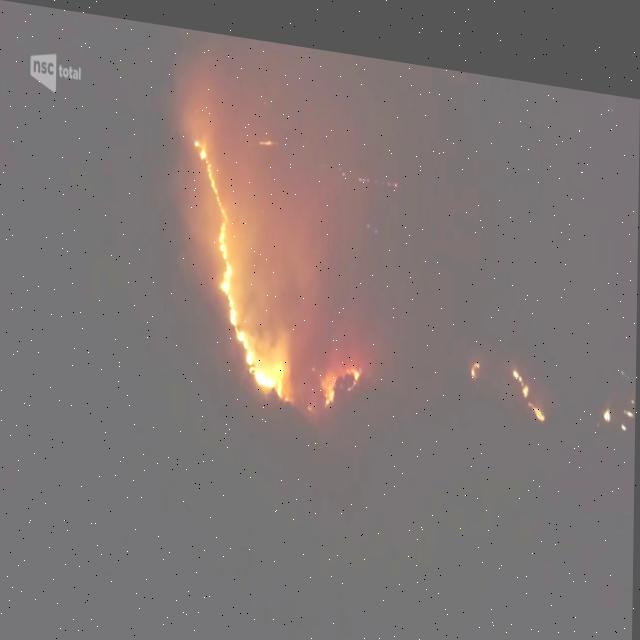Fire: (192, 132, 292, 394), (512, 350, 549, 406), (326, 367, 338, 398), (348, 355, 360, 380), (471, 344, 480, 364), (603, 384, 612, 404)
